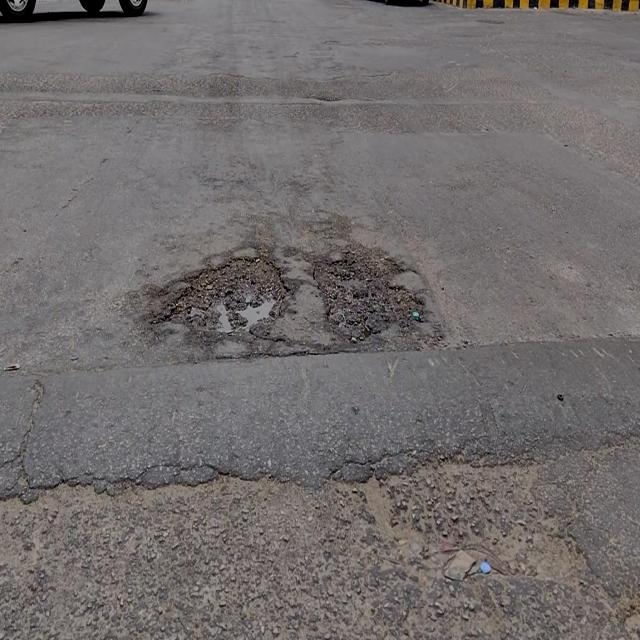Potholes: (310, 236, 426, 347), (166, 257, 293, 337)
